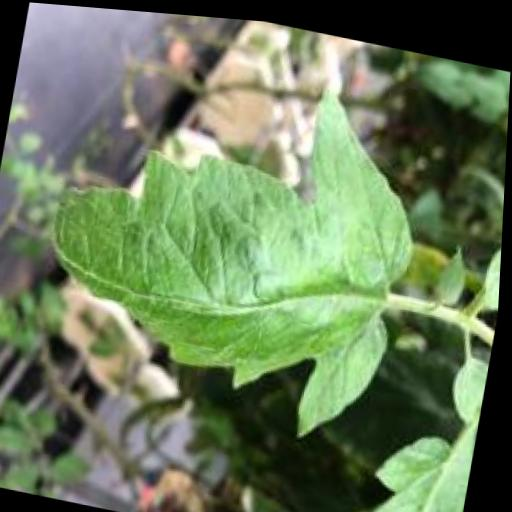Healthy: (28, 22, 439, 452)
